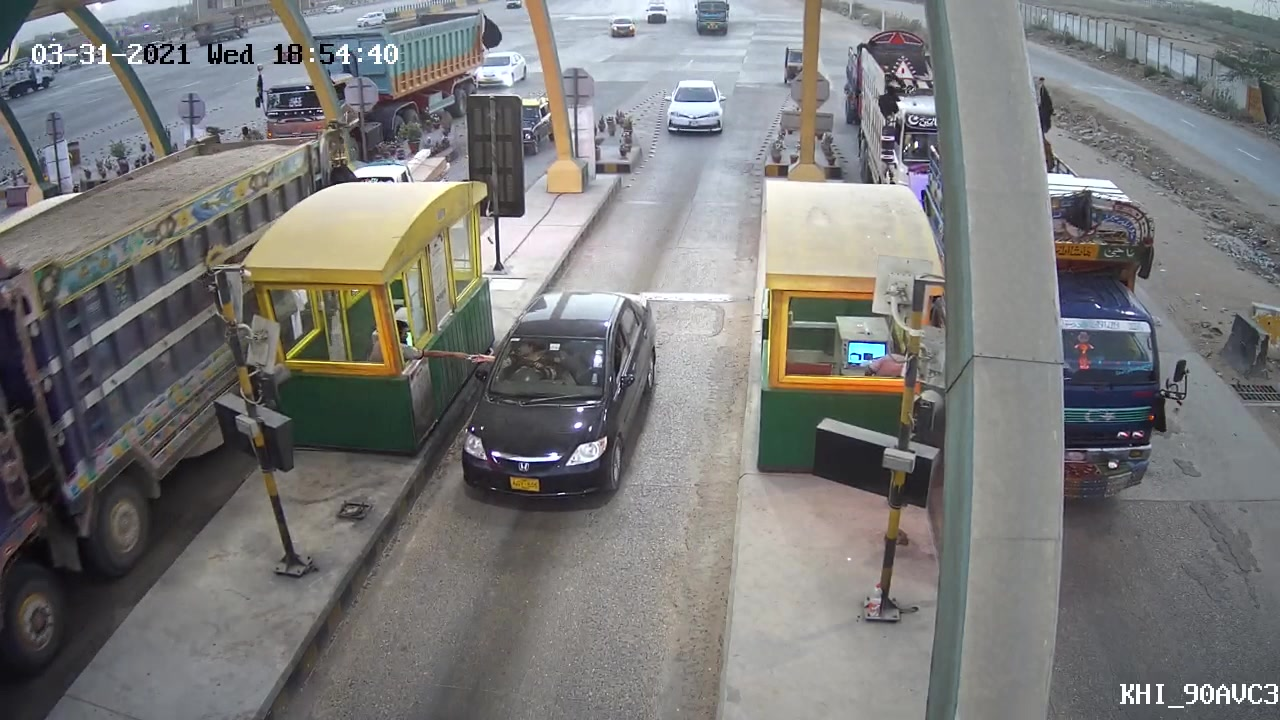F1: (461, 294, 658, 502)
